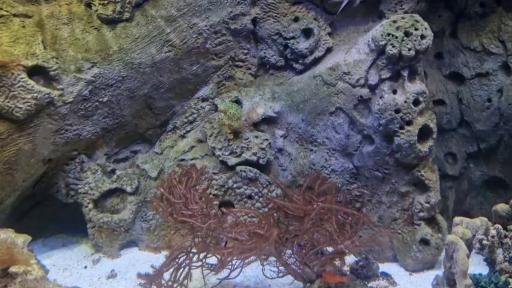Fish: (321, 272, 351, 284)
